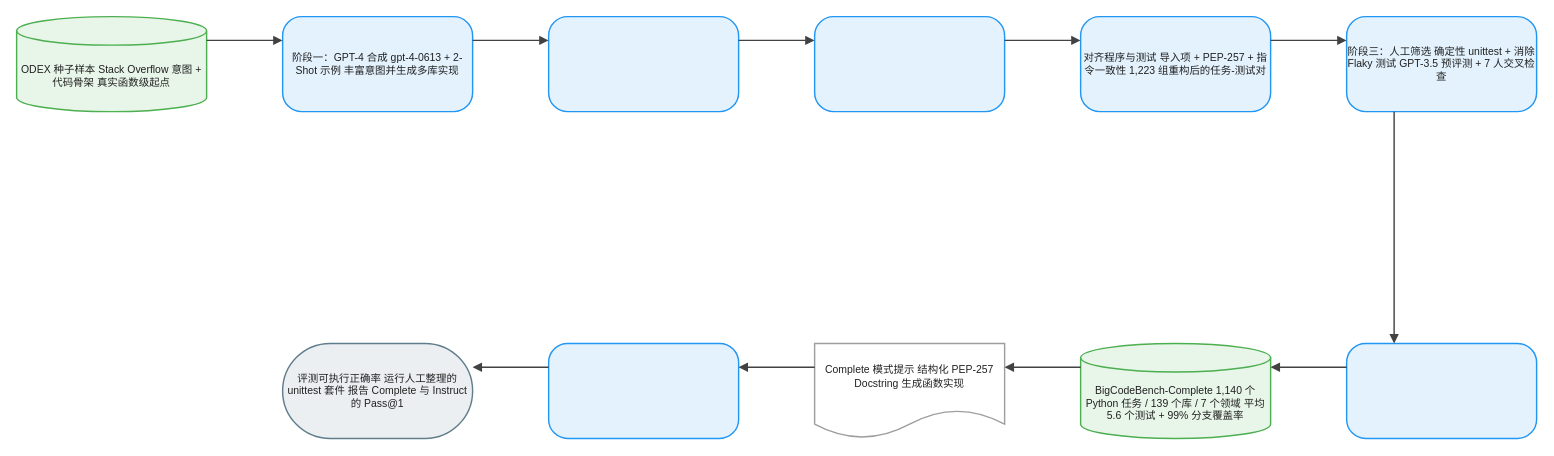
The diagram is 1554 pixels wide and 456 high, and some of its shapes have lost their labels. The centre of each missing label's shape, as x and y in pixels:
"最终可执行验证 GHCR 沙箱自动化 11 人手写 33 题解答，97% 通过" belongs at (x=1441, y=390).
"派生 BigCodeBench-Instruct 按解析规则删除非必要细节 5 名作者抽检提示-解答一致性" belongs at (x=643, y=390).
"缓解偏差并验证语法 混淆入口名 + 回译 Docstring AST 有效池：4,718 条" belongs at (x=643, y=63).
"阶段二：监督式重构 13 名 Python 标注员 + GPT-4 Code Interpreter 分类、调试、重构并生成测试" belongs at (x=909, y=63).
